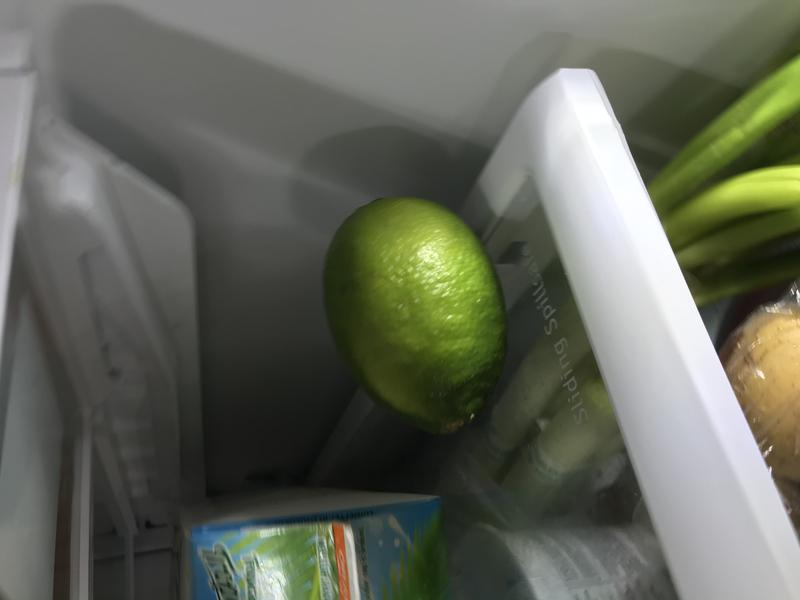lime: (318, 186, 512, 444)
